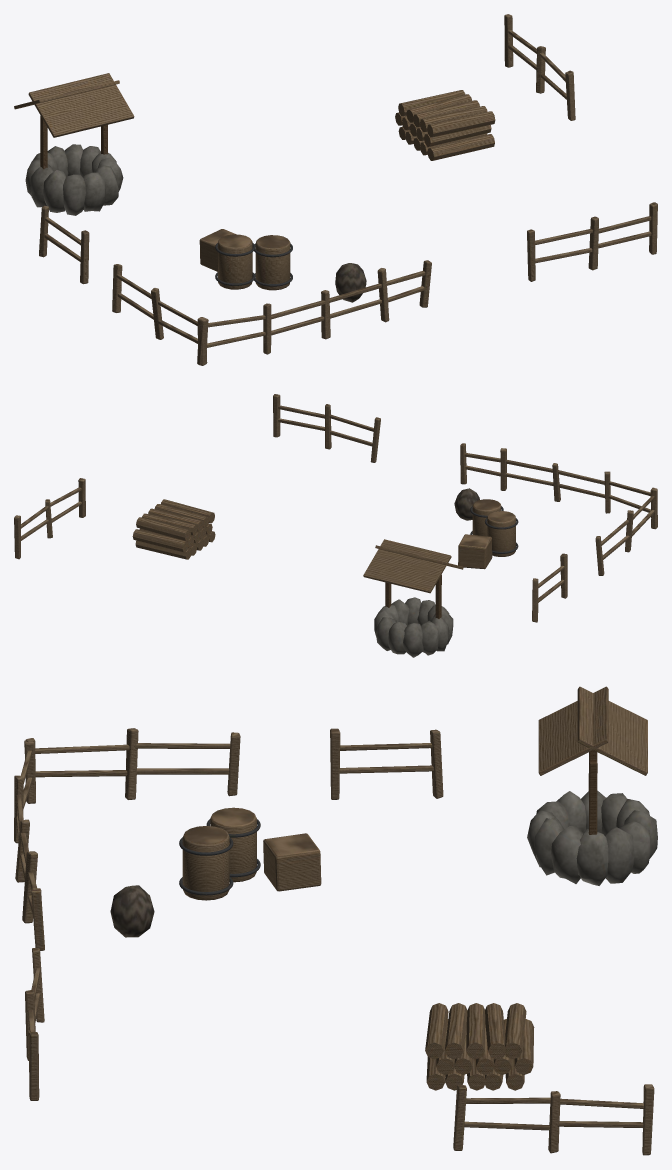
Rendered from props.glb.
3 renders of one model, top to bottom at view 1: azimuth 30°, elevation 25°; view 2: azimuth 150°, elevation 25°; view 3: azimuth 270°, elevation 25°, orthographic. The views are drawn at different scales.
Visible parts, largest first — view 1: props; view 2: props; view 3: props.
Part boxes in pixels (x1=…): props: x1=14, y1=14, x2=657, y2=365; props: x1=14, y1=394, x2=657, y2=657; props: x1=14, y1=686, x2=657, y2=1155.
Bounding box in the file's own units: 11.01 × 2.19 × 8.24.
1 material, 1 textured.
